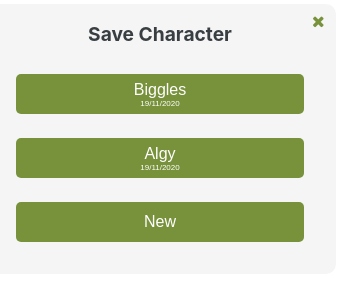
Test: Save Character Modal › updating a character slot › should display save error message on error
The image size is (341, 295).
Click the button "Biggles 19/11/2020" at x=160, y=94, box [16, 74, 304, 114]
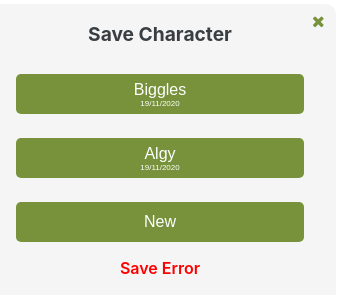
Now the text "Save Error" is shown, box [120, 258, 200, 278]
